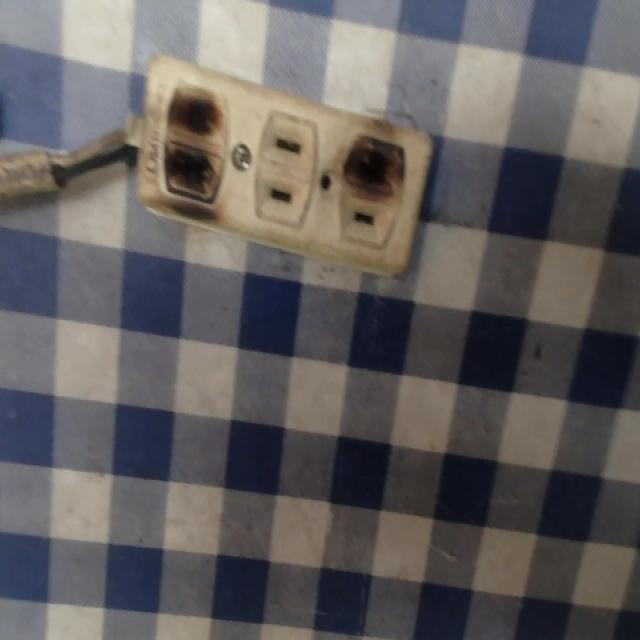-: (158, 81, 231, 216), (336, 125, 413, 211)
